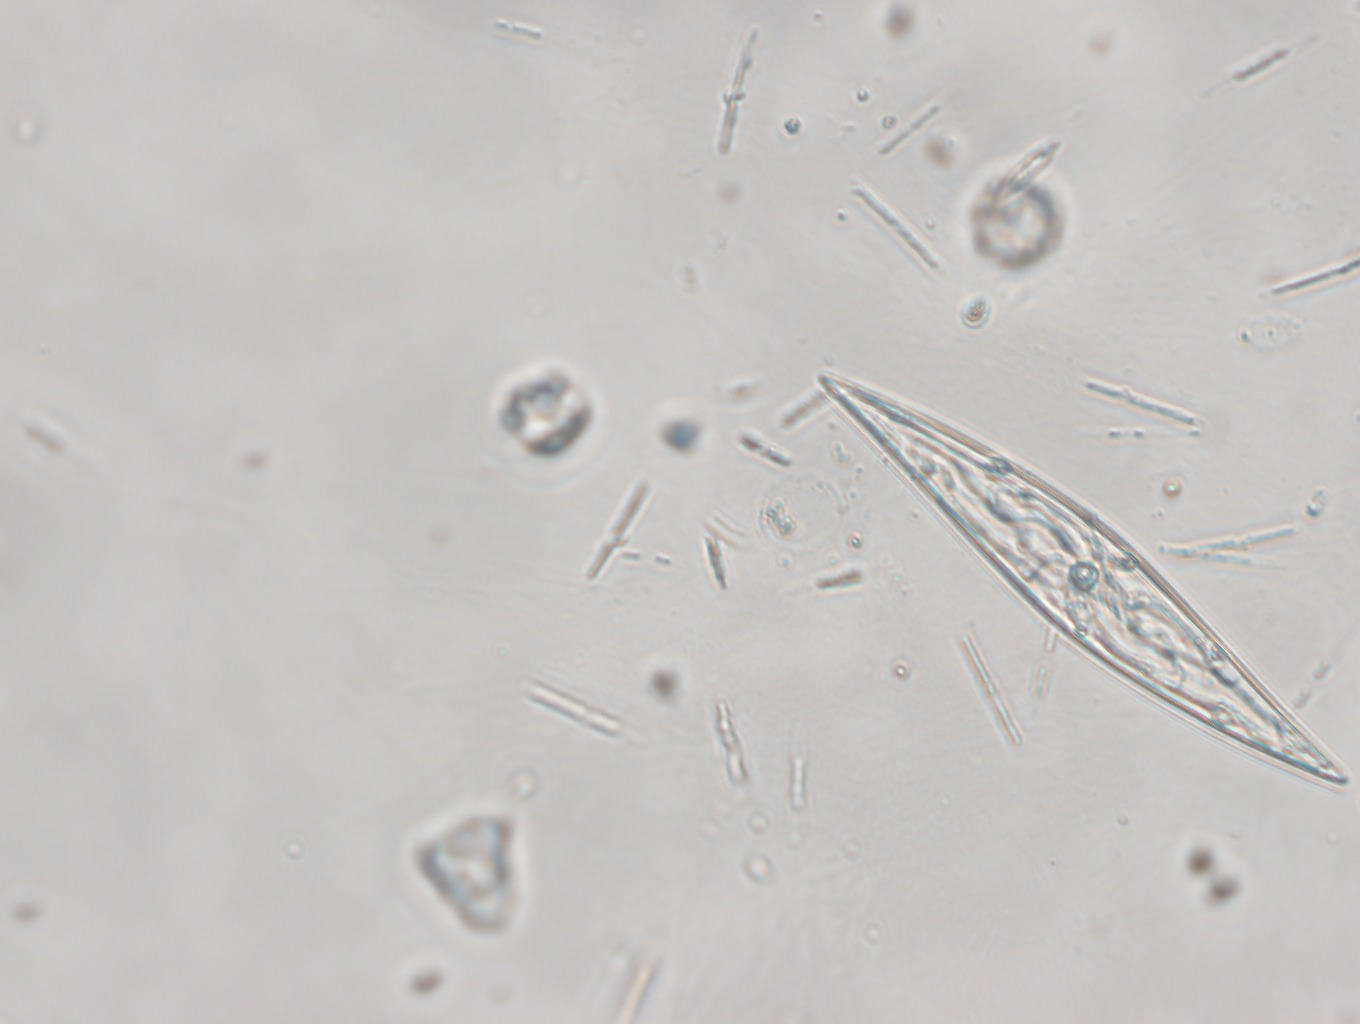pleurosigma pelagicum: (815, 369, 1350, 787)
